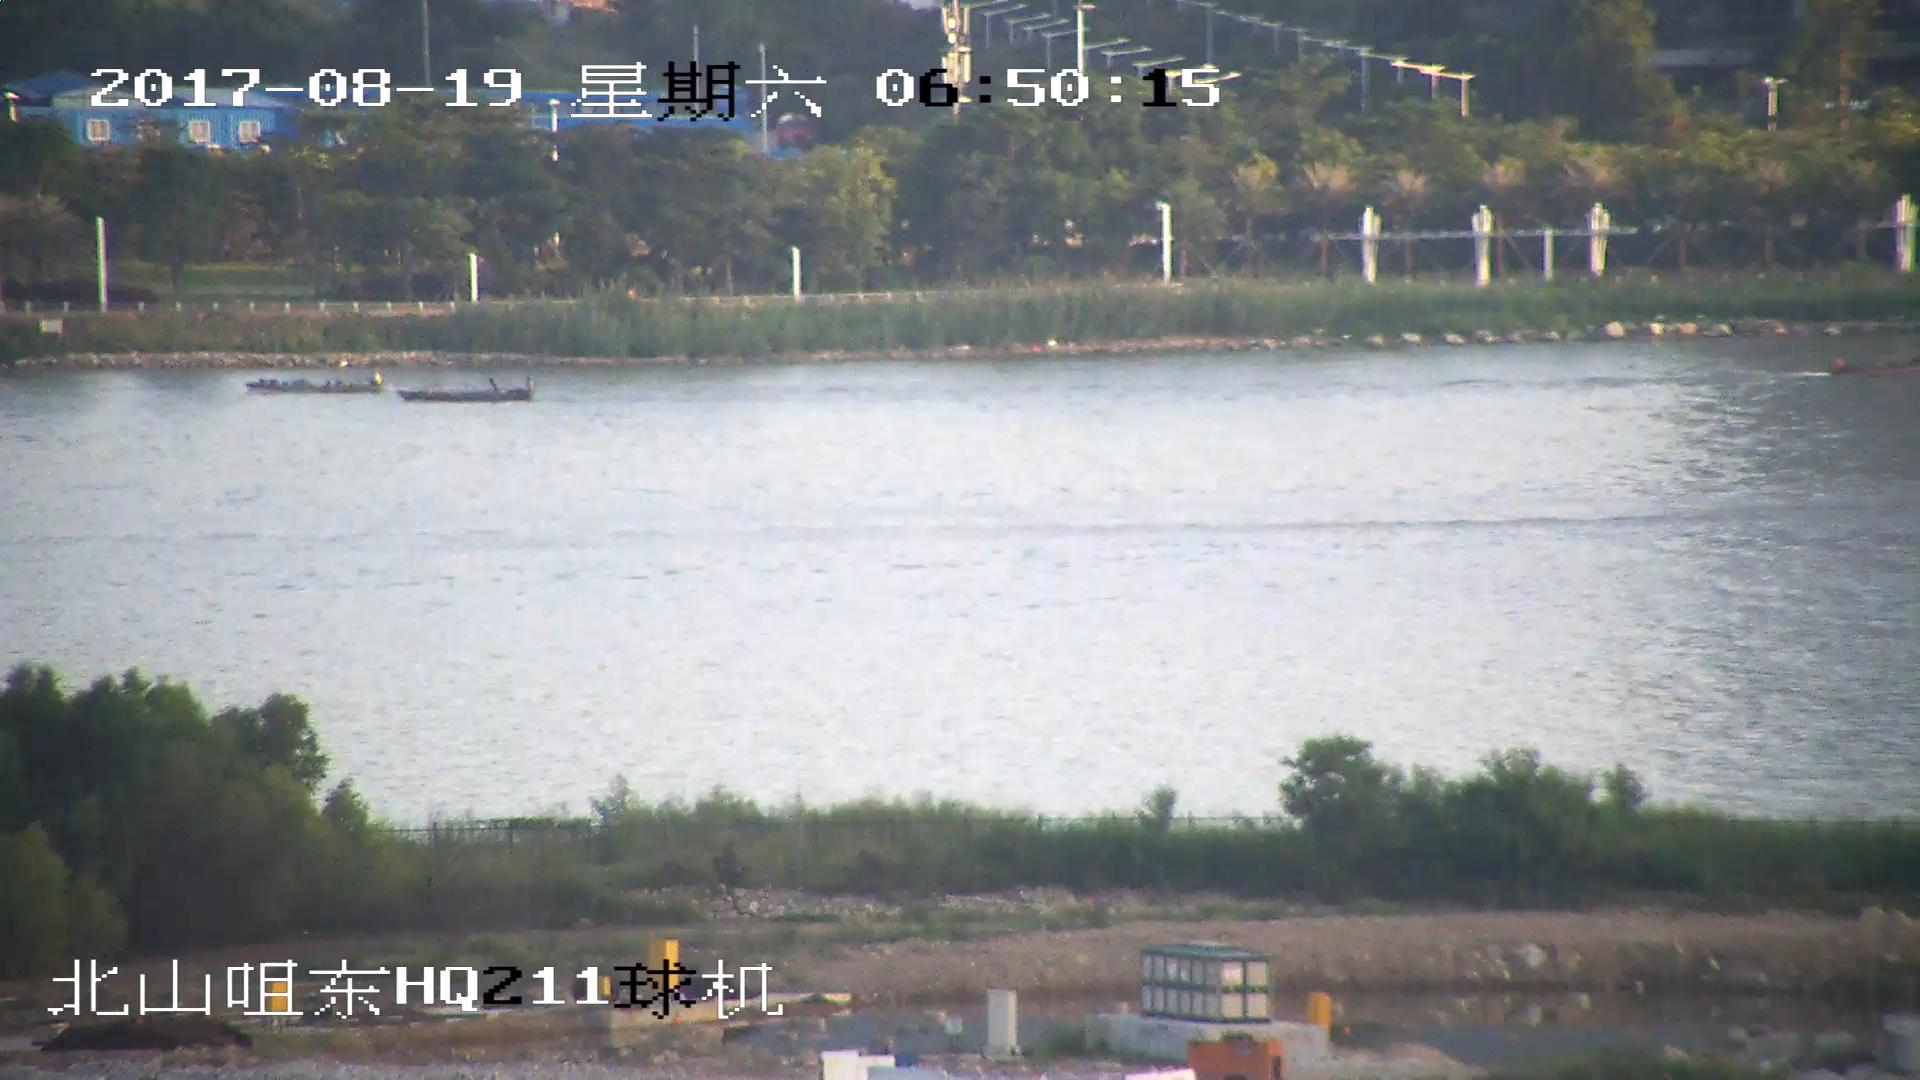fishing boat: (404, 380, 532, 403), (246, 374, 385, 395), (1826, 350, 1920, 380)
